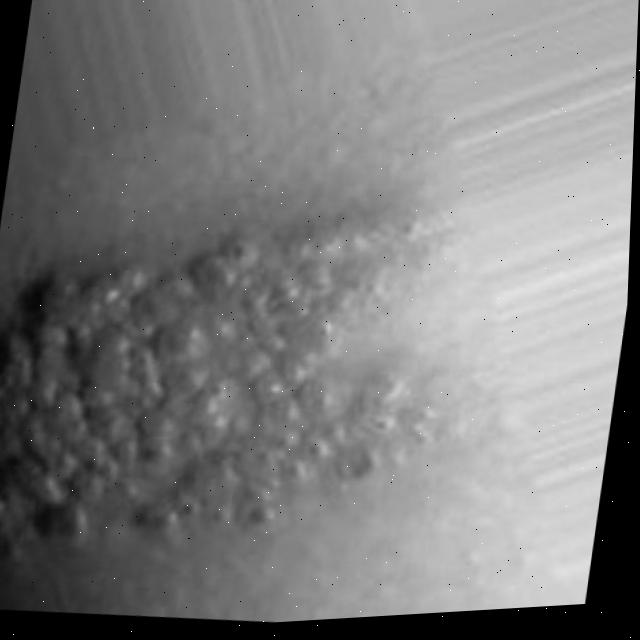Shingles: (0, 156, 477, 599)
